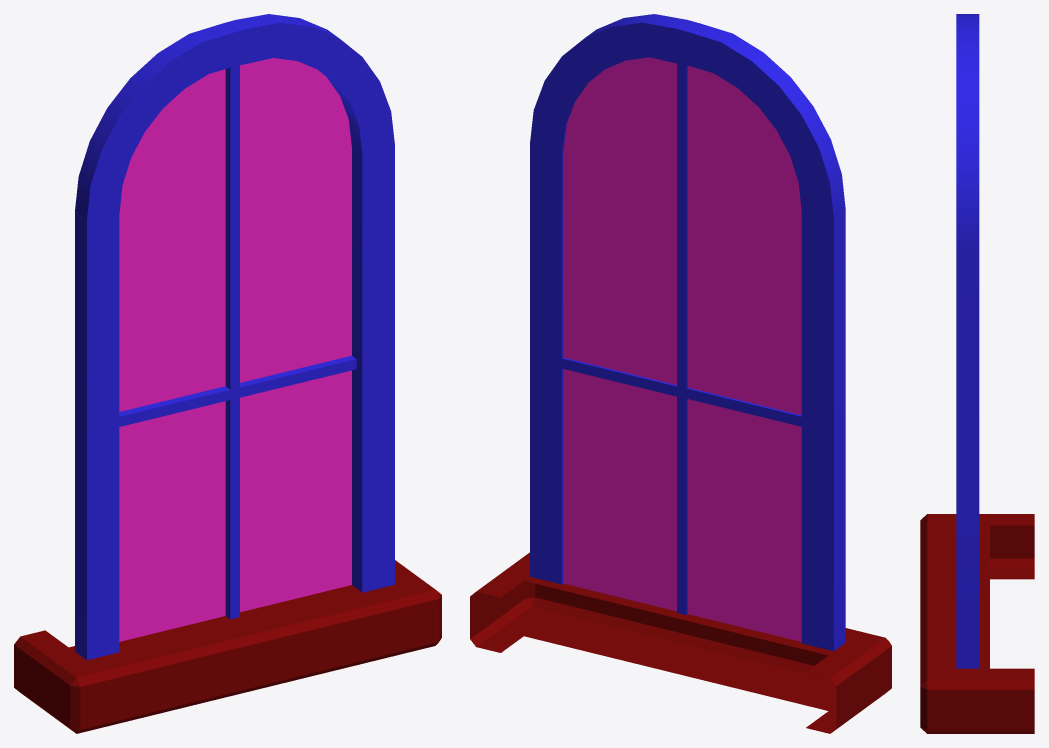
File: MSH_fenetre.fbx
3 views of the same model, side by side, from view 1: azimuth 30°, elevation 25°; view 2: azimuth 150°, elevation 25°; view 3: azimuth 270°, elevation 25° (orthographic). The views are drawn at different scales.
Visible parts, largest first — view 1: Plane001, arche003, bord de fenetre001; view 2: Plane001, arche003, bord de fenetre001; view 3: bord de fenetre001, arche003.
Part boxes in pixels (x1,y1,x2,y2): Plane001: (119, 58, 351, 641); arche003: (75, 14, 394, 659); bord de fenetre001: (14, 560, 441, 733); Plane001: (563, 57, 801, 641); arche003: (530, 14, 845, 651); bord de fenetre001: (470, 552, 891, 733); bord de fenetre001: (920, 514, 1034, 733); arche003: (956, 14, 979, 668).
Bounding box in the file's own units: 2.78 × 4.63 × 0.7759.
